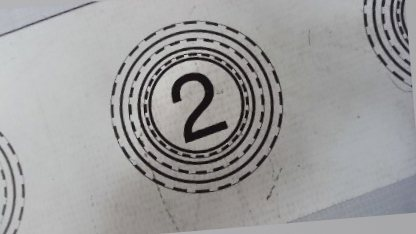2r: (101, 11, 290, 202)
